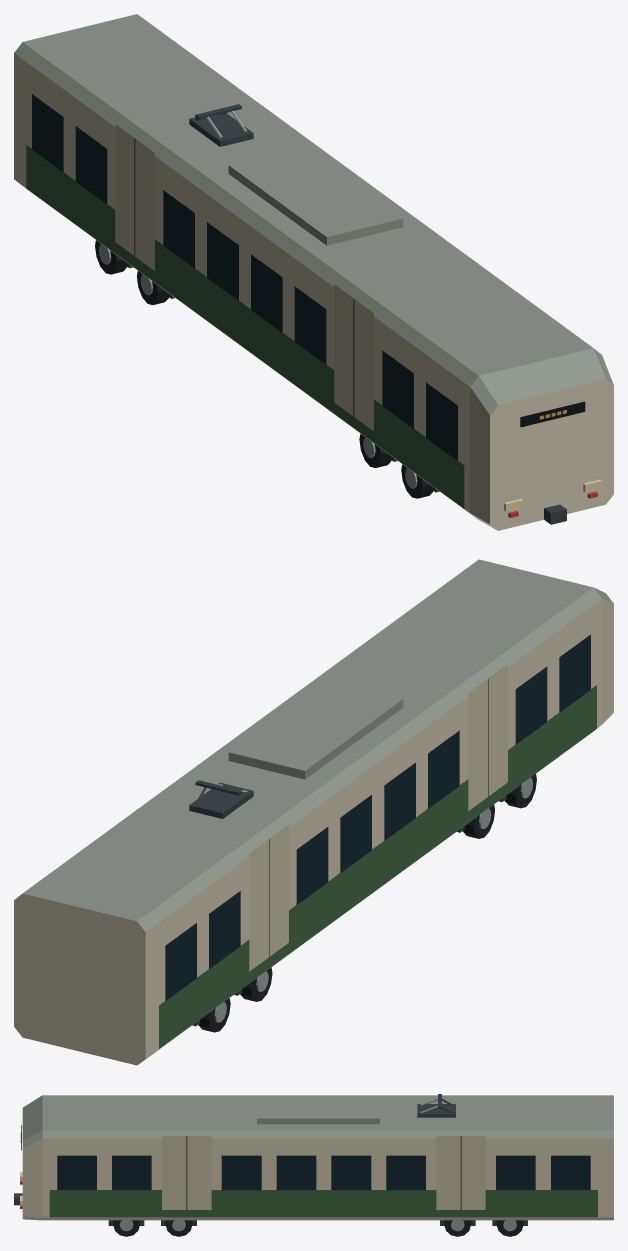
Rendered from tram-moderus-gamma.glb.
3 views of the same model, one above another, from view 1: azimuth 30°, elevation 25°; view 2: azimuth 150°, elevation 25°; view 3: azimuth 270°, elevation 25° (orthographic). The views are drawn at different scales.
Visible parts, largest first — view 1: tram-moderus-gamma.segment-01.005; view 2: tram-moderus-gamma.segment-01.005; view 3: tram-moderus-gamma.segment-01.005.
Part boxes in pixels (x1,y1,x2,y2): tram-moderus-gamma.segment-01.005: (14, 14, 613, 530); tram-moderus-gamma.segment-01.005: (14, 559, 613, 1065); tram-moderus-gamma.segment-01.005: (14, 1094, 613, 1236).
Size of the model in its own units: 2.45 by 3.3 by 15.12.
